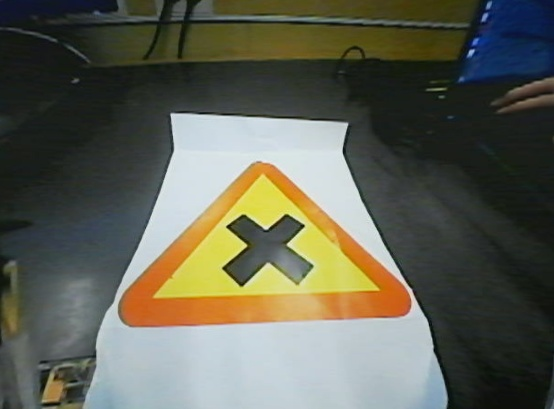junction: (110, 157, 414, 325)
